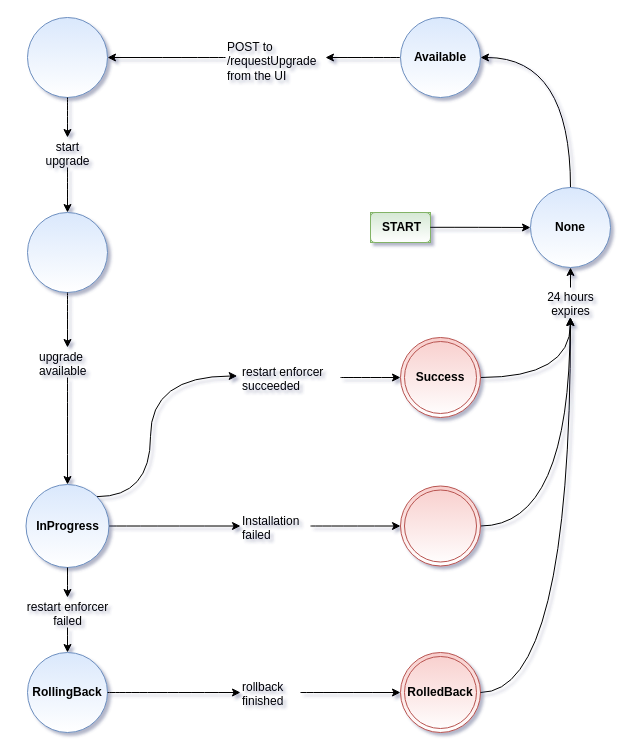
Image size: 634x756. Some labels were removed from this diagram. Each missing label, with the box of its shape:
Failed: (400, 485, 480, 566)
Requested: (26, 16, 108, 98)
Started: (26, 212, 108, 292)
